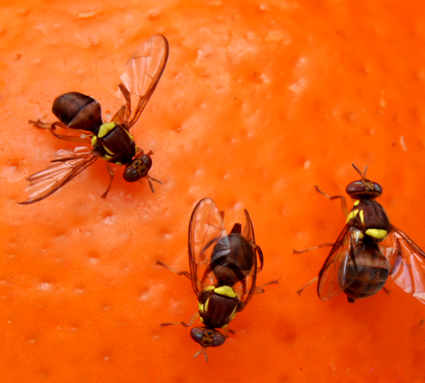Fruit fly: (25, 51, 160, 199), (165, 180, 264, 376), (314, 158, 422, 330)
